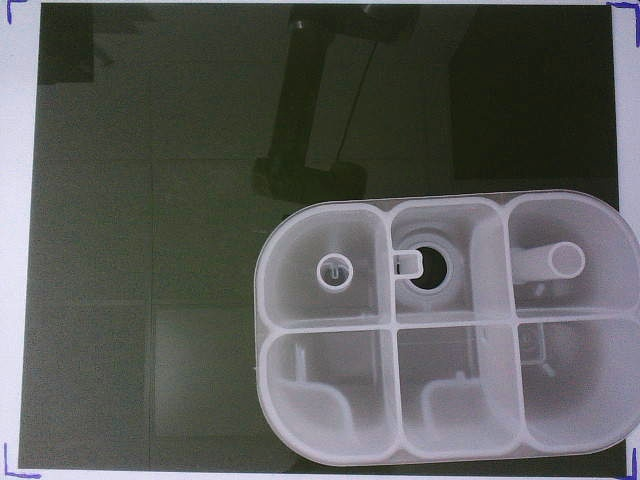reservoir_transparent_Under: (254, 189, 640, 467)
